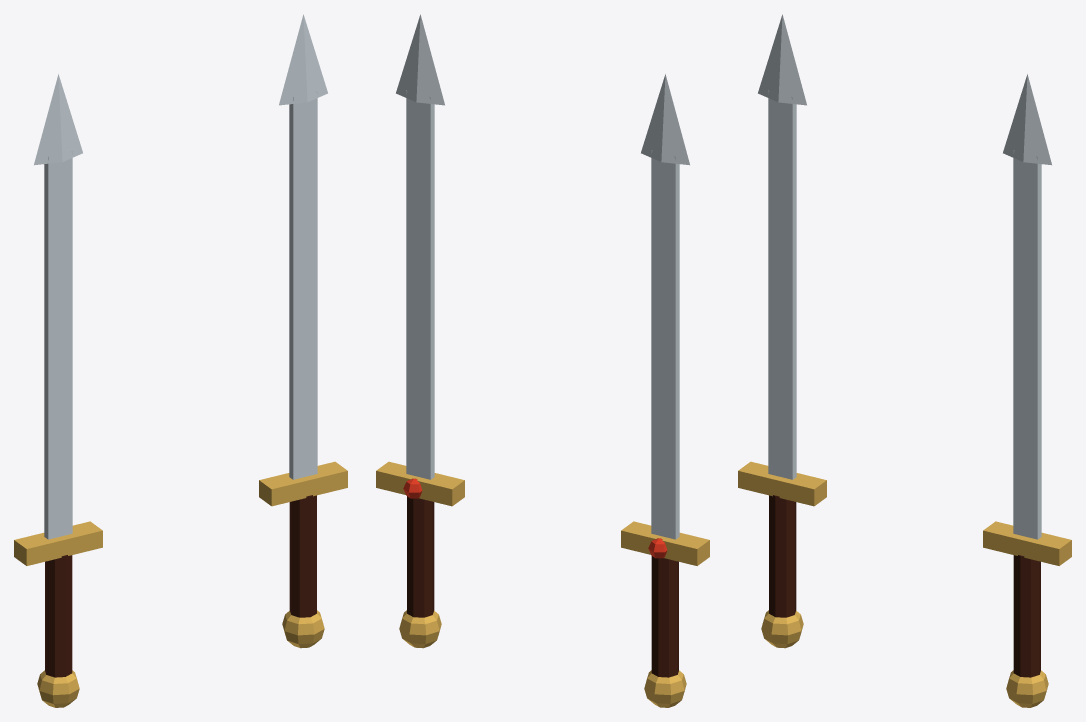
File: weapon_dual_swords.glb
3 renders of one model, left to right at view 1: azimuth 30°, elevation 25°; view 2: azimuth 150°, elevation 25°; view 3: azimuth 330°, elevation 25°, orthographic.
Parts seen in each view (by area): view 1: 큐브.003, 큐브.001, Grip_L, Grip_R, 큐브.002, 큐브, 원뿔, 원뿔.001, 구체, 구체.002; view 2: 큐브.003, 큐브.001, Grip_L, Grip_R, 원뿔, 원뿔.001, 큐브.002, 큐브, 구체, 구체.002; view 3: 큐브.001, 큐브.003, Grip_R, Grip_L, 큐브, 큐브.002, 원뿔.001, 원뿔, 구체.002, 구체.
Part boxes in pixels (bbox=[...]): 큐브.003: bbox=[44, 150, 72, 539]; 큐브.001: bbox=[289, 90, 317, 479]; Grip_L: bbox=[45, 555, 72, 677]; Grip_R: bbox=[289, 495, 316, 617]; 큐브.002: bbox=[14, 521, 102, 565]; 큐브: bbox=[259, 461, 347, 506]; 원뿔: bbox=[279, 14, 327, 105]; 원뿔.001: bbox=[34, 74, 82, 165]; 구체: bbox=[282, 610, 324, 648]; 구체.002: bbox=[37, 670, 79, 707]; 큐브.003: bbox=[651, 150, 679, 539]; 큐브.001: bbox=[406, 90, 434, 479]; Grip_L: bbox=[651, 556, 678, 677]; Grip_R: bbox=[407, 496, 434, 617]; 원뿔: bbox=[396, 14, 444, 105]; 원뿔.001: bbox=[641, 74, 689, 165]; 큐브.002: bbox=[621, 521, 709, 565]; 큐브: bbox=[376, 461, 464, 506]; 구체: bbox=[399, 610, 441, 648]; 구체.002: bbox=[644, 670, 686, 707]; 큐브.001: bbox=[1013, 150, 1041, 539]; 큐브.003: bbox=[768, 90, 796, 479]; Grip_R: bbox=[1013, 555, 1040, 677]; Grip_L: bbox=[769, 495, 796, 617]; 큐브: bbox=[983, 521, 1071, 565]; 큐브.002: bbox=[738, 461, 826, 506]; 원뿔.001: bbox=[758, 14, 806, 105]; 원뿔: bbox=[1003, 74, 1051, 165]; 구체.002: bbox=[761, 610, 803, 648]; 구체: bbox=[1006, 670, 1048, 707].
Bounding box in the file's own units: 1.18 × 2.22 × 0.145.
